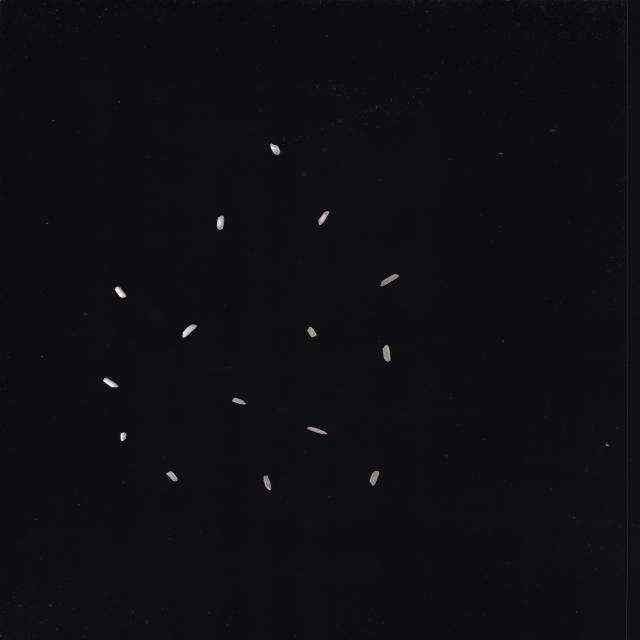Chalky: (317, 211, 330, 225), (216, 216, 225, 230), (270, 143, 280, 155)
Not: (380, 274, 400, 286), (182, 324, 198, 338), (306, 426, 328, 436), (102, 377, 120, 388), (369, 470, 380, 486), (382, 344, 391, 362), (262, 475, 272, 491), (114, 286, 127, 298), (166, 471, 178, 482), (307, 326, 317, 338), (231, 397, 246, 405), (119, 432, 127, 442)
